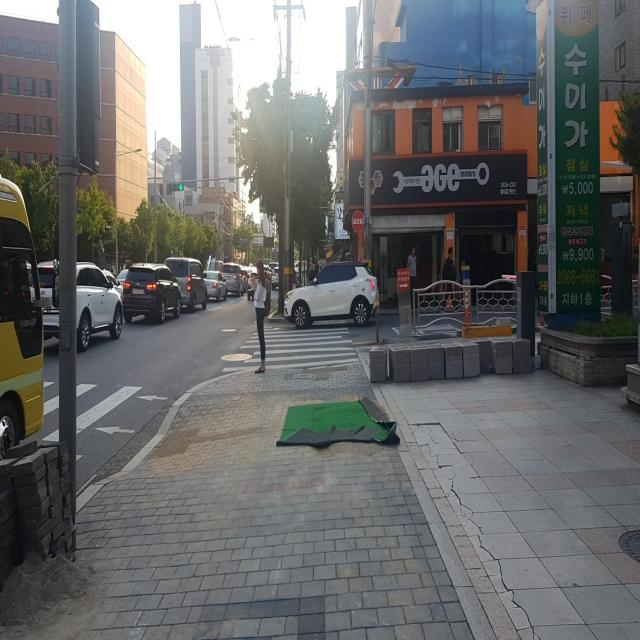횡단보도: (0, 386, 164, 469), (221, 318, 361, 374)
